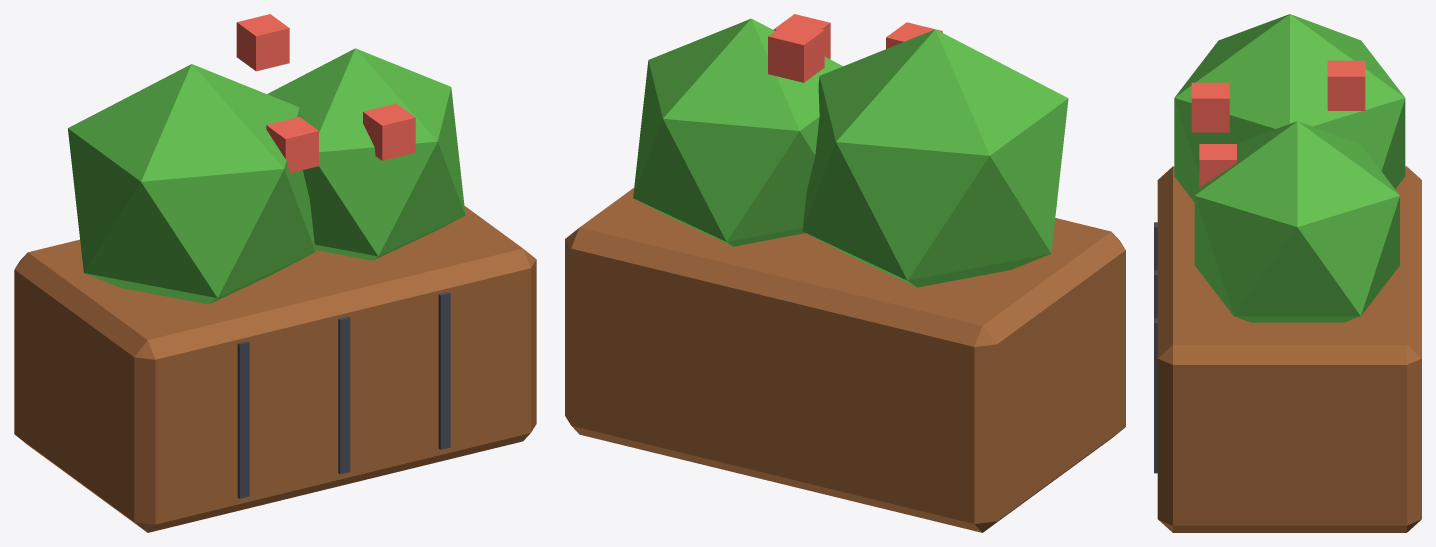
Rendered from planter.glb.
3 renders of one model, left to right at view 1: azimuth 30°, elevation 25°; view 2: azimuth 150°, elevation 25°; view 3: azimuth 270°, elevation 25°, orthographic. The views are drawn at different scales.
Visible parts, largest first — view 1: planter; view 2: planter; view 3: planter.
Part boxes in pixels (box(x1,y1,x2,y2)): planter: box(14, 14, 536, 532); planter: box(565, 14, 1125, 532); planter: box(1154, 14, 1421, 532).
Size of the model in its own units: 1.2 by 1.14 by 0.71.
